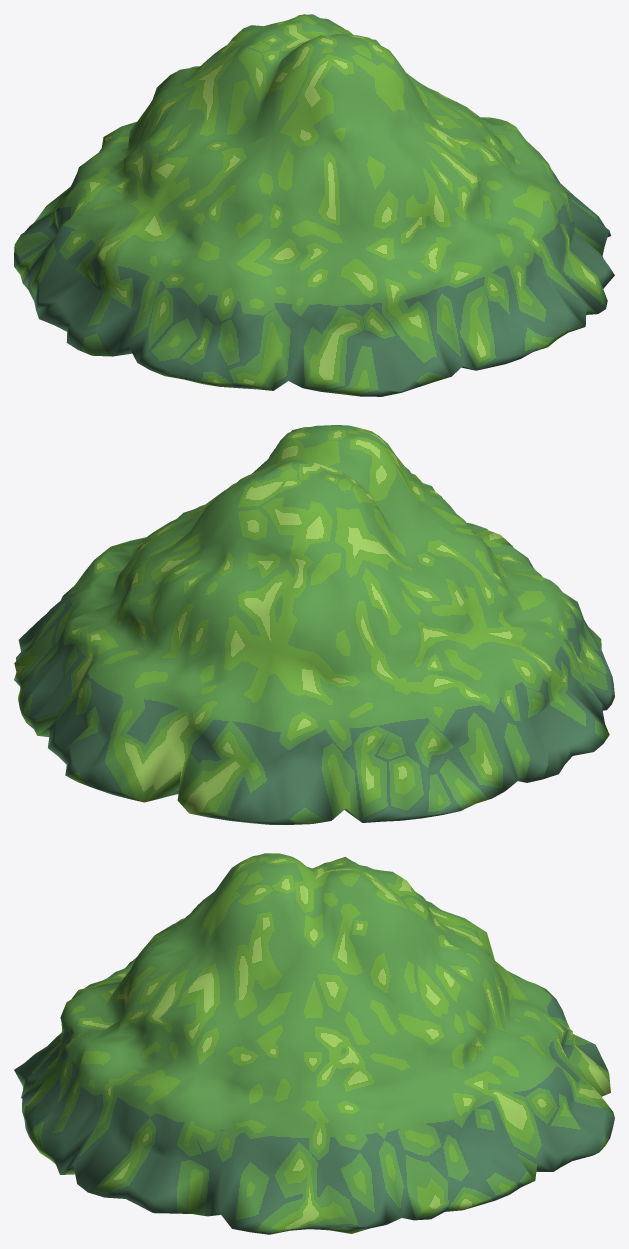
File: yerba.fbx
3 renders of one model, top to bottom at view 1: azimuth 30°, elevation 25°; view 2: azimuth 150°, elevation 25°; view 3: azimuth 270°, elevation 25°, orthographic. The views are drawn at different scales.
Parts seen in each view (by area): view 1: yerba; view 2: yerba; view 3: yerba.
Part boxes in pixels (x1=…): yerba: x1=14, y1=14, x2=614, y2=396; yerba: x1=14, y1=425, x2=614, y2=824; yerba: x1=14, y1=853, x2=614, y2=1234.
Bounding box in the file's own units: 54.33 × 24.22 × 54.04.
